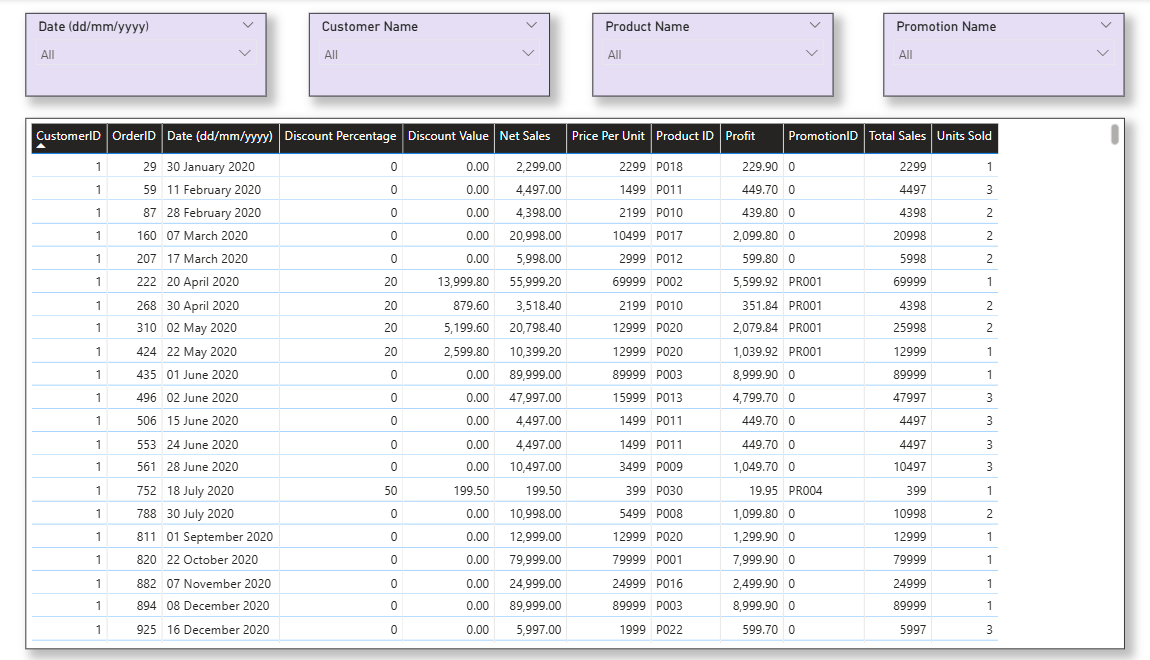

This screenshot's page, from the dashboard's own definition file:
{"tool":"powerbi","page":{"name":"Table Visual","canvas":[1280,720],"ordinal":3},"visuals":[{"type":"tableEx","fields":{"Values":["Fact Table.CustomerID","Fact Table.OrderID","Fact Table.Date (dd/mm/yyyy)","Fact Table.Discount Percentage","Fact Table.Discount Value","Fact Table.Net Sales  ","Fact Table.Price Per Unit","Fact Table.Product ID","Fact Table.Profit","Fact Table.PromotionID","Fact Table.Total Sales","Fact Table.Units Sold"]},"box":[40.5,129.5,1186.9,573.2],"z":0},{"type":"slicer","fields":{"Values":["Fact Table.Date (dd/mm/yyyy)"]},"box":[40,16.7,260,90],"z":1000},{"type":"slicer","fields":{"Values":["Dim Customers.Customer Name"]},"box":[346.7,16.7,260,90],"z":2000},{"type":"slicer","fields":{"Values":["Dim Product.Product Name"]},"box":[653.3,16.7,260,90],"z":3000},{"type":"slicer","fields":{"Values":["Dim Promotion.Promotion Name"]},"box":[966.7,16.7,260,90],"z":4000}]}

Visuals, with their boxes in screenshot pixels (x1, y1, x2, y2), scaled from the page's 1280x720 canvas onto the 1150x660 screenshot:
tableEx - Fact Table.CustomerID x Fact Table.OrderID: <box>36,119,1103,644</box>
slicer - Fact Table.Date (dd/mm/yyyy): <box>36,15,270,98</box>
slicer - Dim Customers.Customer Name: <box>311,15,545,98</box>
slicer - Dim Product.Product Name: <box>587,15,821,98</box>
slicer - Dim Promotion.Promotion Name: <box>869,15,1102,98</box>
